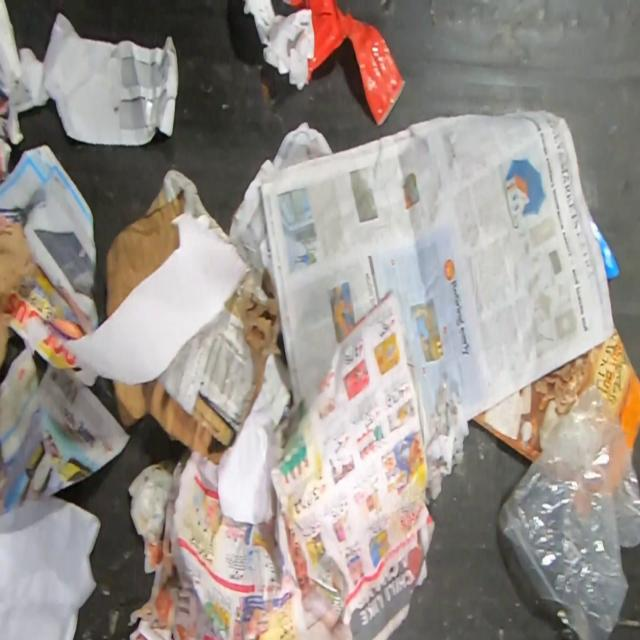cardboard: (20, 210, 250, 385), (111, 267, 282, 467), (471, 320, 640, 460), (104, 169, 209, 320), (587, 206, 620, 282), (210, 215, 232, 241)
rigid_plastic: (280, 0, 406, 127)
soft_plastic: (497, 381, 640, 639)
